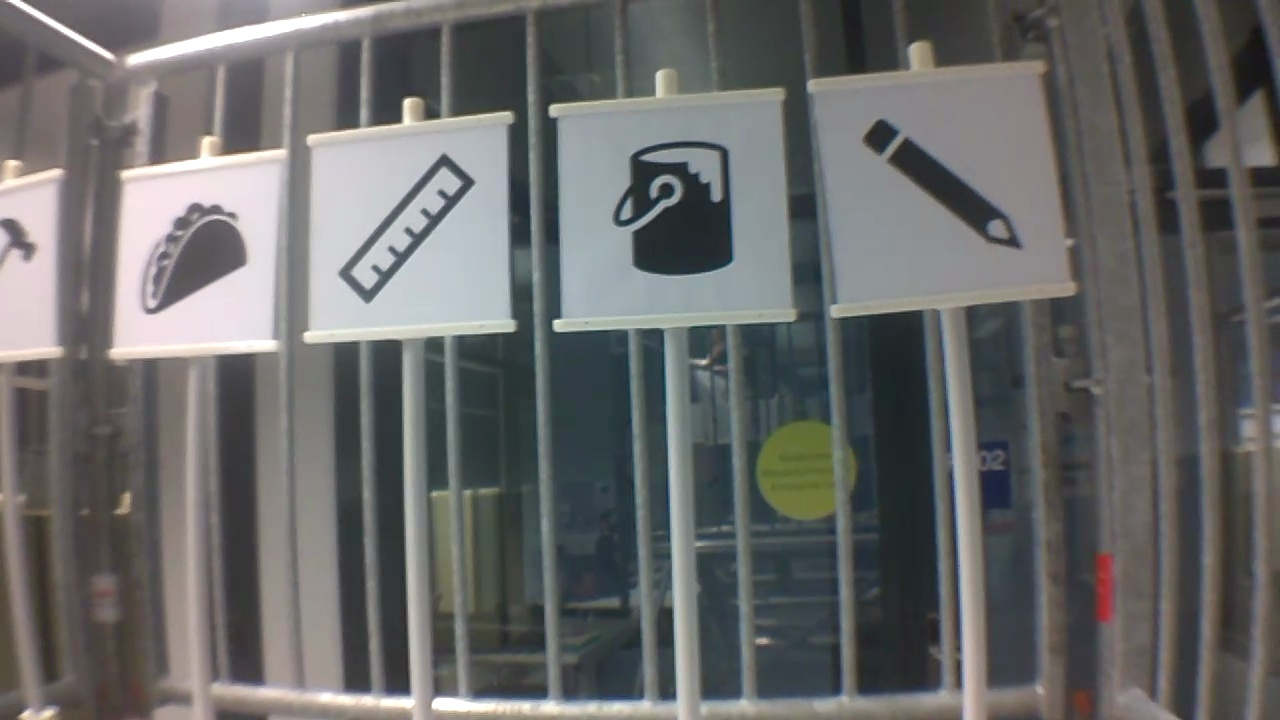bucket: (607, 137, 739, 278)
pencil: (854, 114, 1025, 255)
ruler: (331, 149, 479, 311)
taco: (134, 197, 250, 317)
